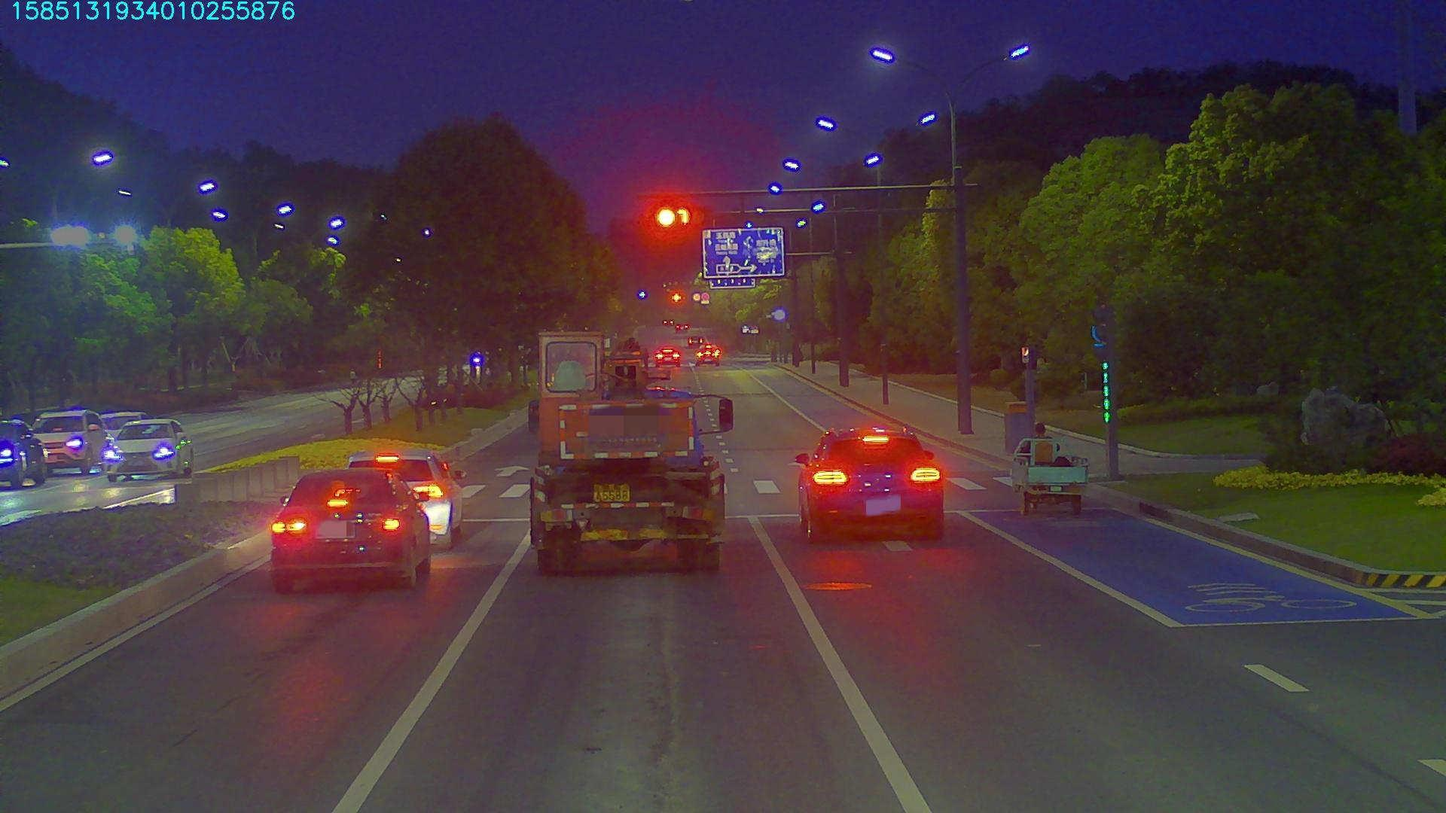red: (655, 205, 696, 233)
